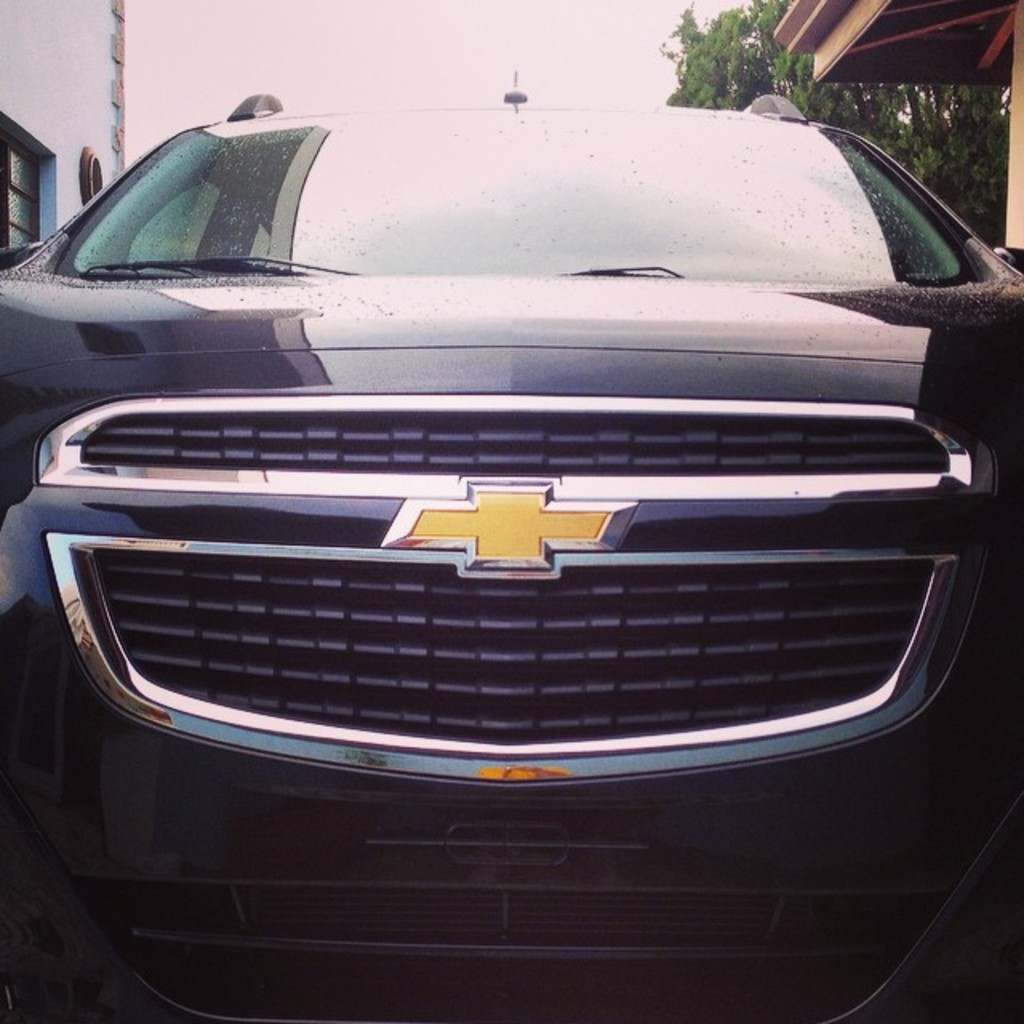Car: (0, 68, 1022, 1022)
